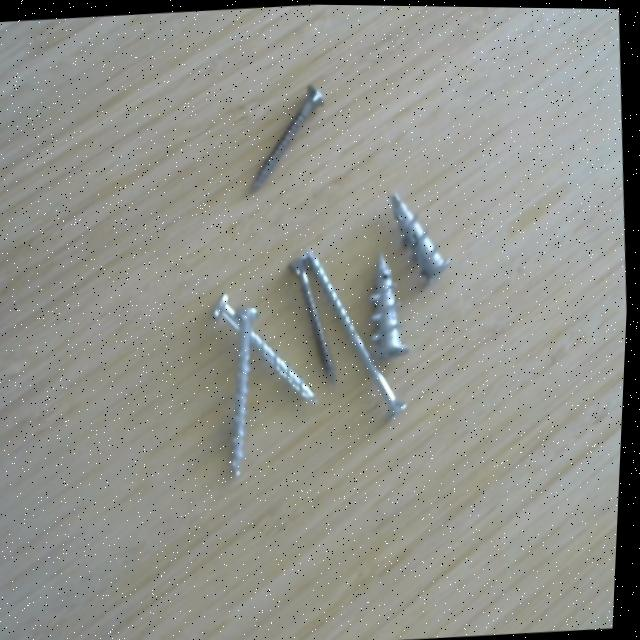Black screw: (243, 74, 334, 200), (283, 249, 345, 387)
Long screw: (300, 238, 417, 432)
Medium screw: (206, 280, 330, 411), (231, 298, 265, 481)
Short screw: (383, 179, 462, 292), (369, 248, 416, 361)
